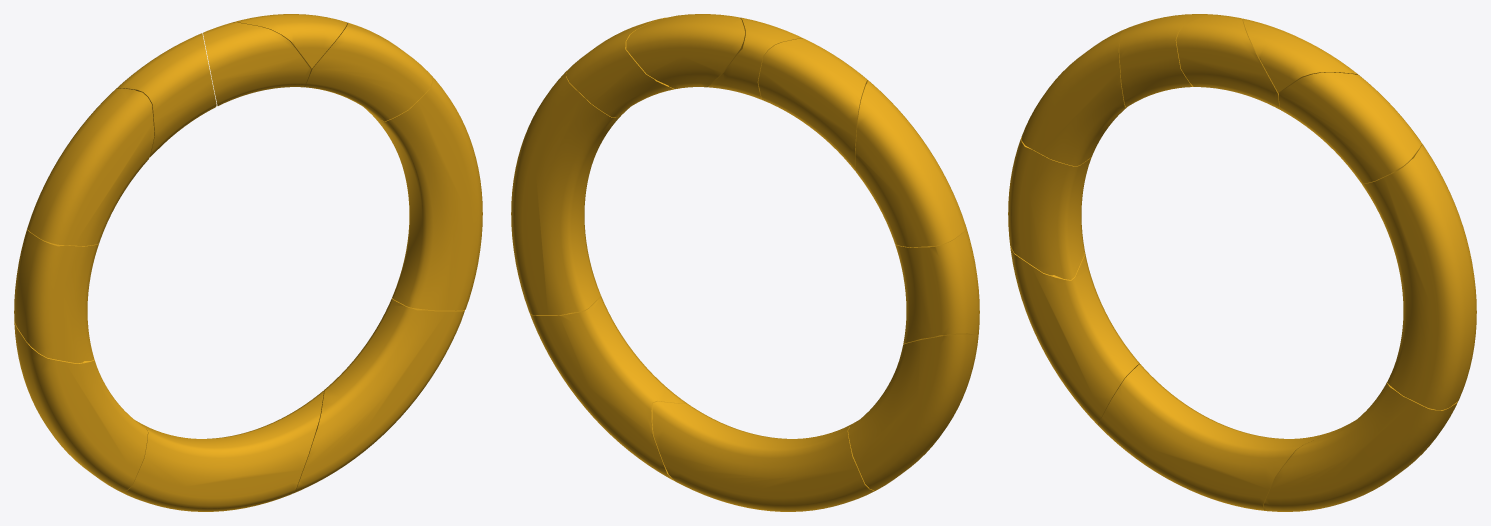
Rendered from halka_fractured (1).fbx.
3 renders of one model, left to right at view 1: azimuth 30°, elevation 25°; view 2: azimuth 150°, elevation 25°; view 3: azimuth 330°, elevation 25°, orthographic.
Parts seen in each view (by area): view 1: Cylinder_cell.001, Cylinder_cell.007, Cylinder_cell, Cylinder_cell.005, Cylinder_cell.004, Cylinder_cell.003, Cylinder_cell.002, Cylinder_cell.008, Cylinder_cell.006, Cylinder_cell.009; view 2: Cylinder_cell.001, Cylinder_cell, Cylinder_cell.004, Cylinder_cell.007, Cylinder_cell.005, Cylinder_cell.006, Cylinder_cell.003, Cylinder_cell.009, Cylinder_cell.002, Cylinder_cell.008; view 3: Cylinder_cell.001, Cylinder_cell, Cylinder_cell.007, Cylinder_cell.004, Cylinder_cell.002, Cylinder_cell.003, Cylinder_cell.005, Cylinder_cell.008, Cylinder_cell.006, Cylinder_cell.009.
Part boxes in pixels (bbox=[...]): Cylinder_cell.001: bbox=[367, 73, 482, 310]; Cylinder_cell.007: bbox=[293, 298, 464, 493]; Cylinder_cell: bbox=[118, 390, 323, 511]; Cylinder_cell.005: bbox=[27, 88, 154, 245]; Cylinder_cell.004: bbox=[14, 322, 147, 491]; Cylinder_cell.003: bbox=[14, 229, 98, 363]; Cylinder_cell.002: bbox=[304, 22, 432, 121]; Cylinder_cell.008: bbox=[203, 22, 310, 105]; Cylinder_cell.006: bbox=[114, 33, 216, 157]; Cylinder_cell.009: bbox=[232, 14, 347, 68]; Cylinder_cell.001: bbox=[511, 71, 624, 315]; Cylinder_cell: bbox=[652, 401, 876, 511]; Cylinder_cell.004: bbox=[848, 334, 978, 490]; Cylinder_cell.007: bbox=[530, 295, 690, 480]; Cylinder_cell.005: bbox=[855, 80, 966, 247]; Cylinder_cell.006: bbox=[758, 38, 868, 170]; Cylinder_cell.003: bbox=[895, 227, 979, 344]; Cylinder_cell.009: bbox=[626, 14, 744, 88]; Cylinder_cell.002: bbox=[566, 17, 679, 117]; Cylinder_cell.008: bbox=[706, 17, 803, 100]; Cylinder_cell.001: bbox=[1362, 143, 1476, 409]; Cylinder_cell: bbox=[1098, 364, 1328, 511]; Cylinder_cell.007: bbox=[1263, 381, 1458, 511]; Cylinder_cell.004: bbox=[1010, 245, 1139, 425]; Cylinder_cell.002: bbox=[1279, 72, 1421, 183]; Cylinder_cell.003: bbox=[1008, 137, 1091, 279]; Cylinder_cell.005: bbox=[1021, 29, 1126, 166]; Cylinder_cell.008: bbox=[1176, 14, 1280, 109]; Cylinder_cell.006: bbox=[1119, 14, 1212, 107]; Cylinder_cell.009: bbox=[1243, 18, 1360, 93].
Size of the model in its own units: 160 by 160 by 16.85.
